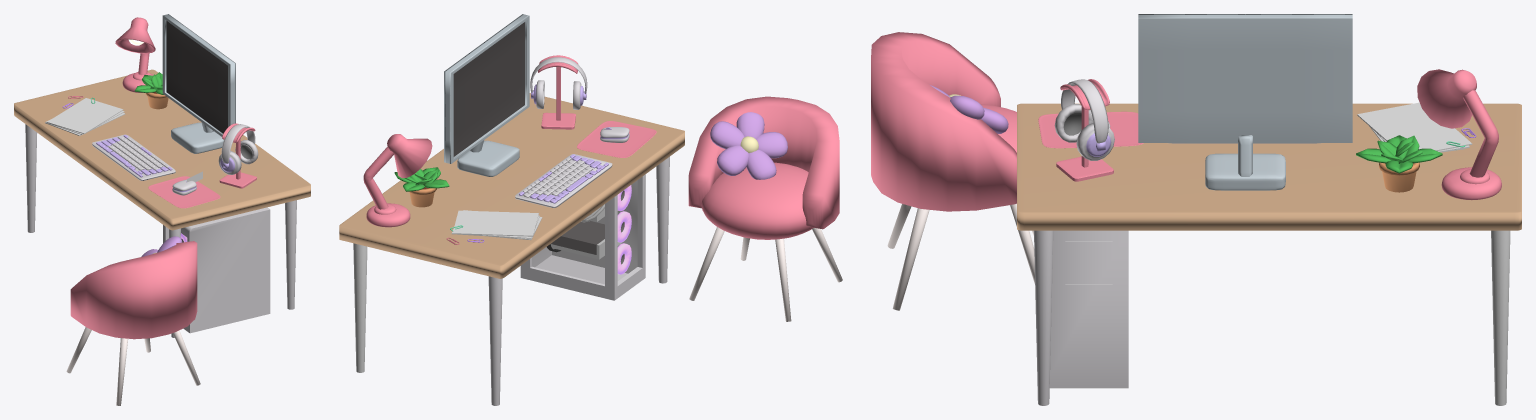
Rendered from krzeslo.glb.
The picture shows the model from 3 angles, left to right: view 1: azimuth 30°, elevation 25°; view 2: azimuth 150°, elevation 25°; view 3: azimuth 270°, elevation 25°; orthographic projection. The views are drawn at different scales.
Visible parts, largest first — view 1: Cube, Cube.011, Cube.001, Cube.006, Cube.063, Plane.003, Cylinder.001, Cylinder.015, Cylinder.009, podkladka, Cylinder.004, Cylinder.003 (+3 smaller); view 2: Cube, Cube.006, Cube.011, Cube.001, Cube.012, Cube.010, Cylinder.001, Cube.063, Plane.003, Cylinder.015, podkladka, Cylinder.003 (+6 smaller); view 3: Cube, Cube.006, Cube.011, Cube.001, Cylinder.001, Cylinder.009, Plane.003, Cylinder.004, Cylinder.005, Cylinder.008, Cylinder.015, podkladka (+3 smaller).
Boxes of the visible parts, x1,y1,x2,y2 form: Cube: (14,69,310,230); Cube.011: (70,241,197,339); Cube.001: (163,207,270,333); Cube.006: (162,14,235,153); Cube.063: (92,134,175,180); Plane.003: (45,98,125,135); Cylinder.001: (115,17,155,92); Cylinder.015: (66,327,200,405); Cylinder.009: (218,124,258,174); podkladka: (148,176,220,208); Cylinder.004: (285,200,296,309); Cylinder.003: (25,124,37,232); Cube: (339,93,684,278); Cube.006: (444,14,529,176); Cube.011: (688,96,839,229); Cube.001: (520,174,645,300); Cube.012: (701,162,813,239); Cube.010: (710,112,787,179); Cylinder.001: (363,134,432,227); Cube.063: (515,154,612,208); Plane.003: (451,210,542,240); Cylinder.015: (689,227,842,321); podkladka: (577,121,656,157); Cylinder.003: (488,276,502,405); Cube: (1017,103,1521,230); Cube.006: (1138,14,1352,190); Cube.011: (871,32,1016,211); Cube.001: (1049,230,1128,388); Cylinder.001: (1417,69,1501,200); Cylinder.009: (1054,79,1114,160); Plane.003: (1357,102,1472,152); Cylinder.004: (1034,230,1053,405); Cylinder.005: (1491,230,1510,405); Cylinder.008: (1356,135,1442,192); Cylinder.015: (887,203,1034,310); podkladka: (1038,111,1143,148).
Bounding box in the file's own units: 0.1213 × 0.1109 × 0.172.
